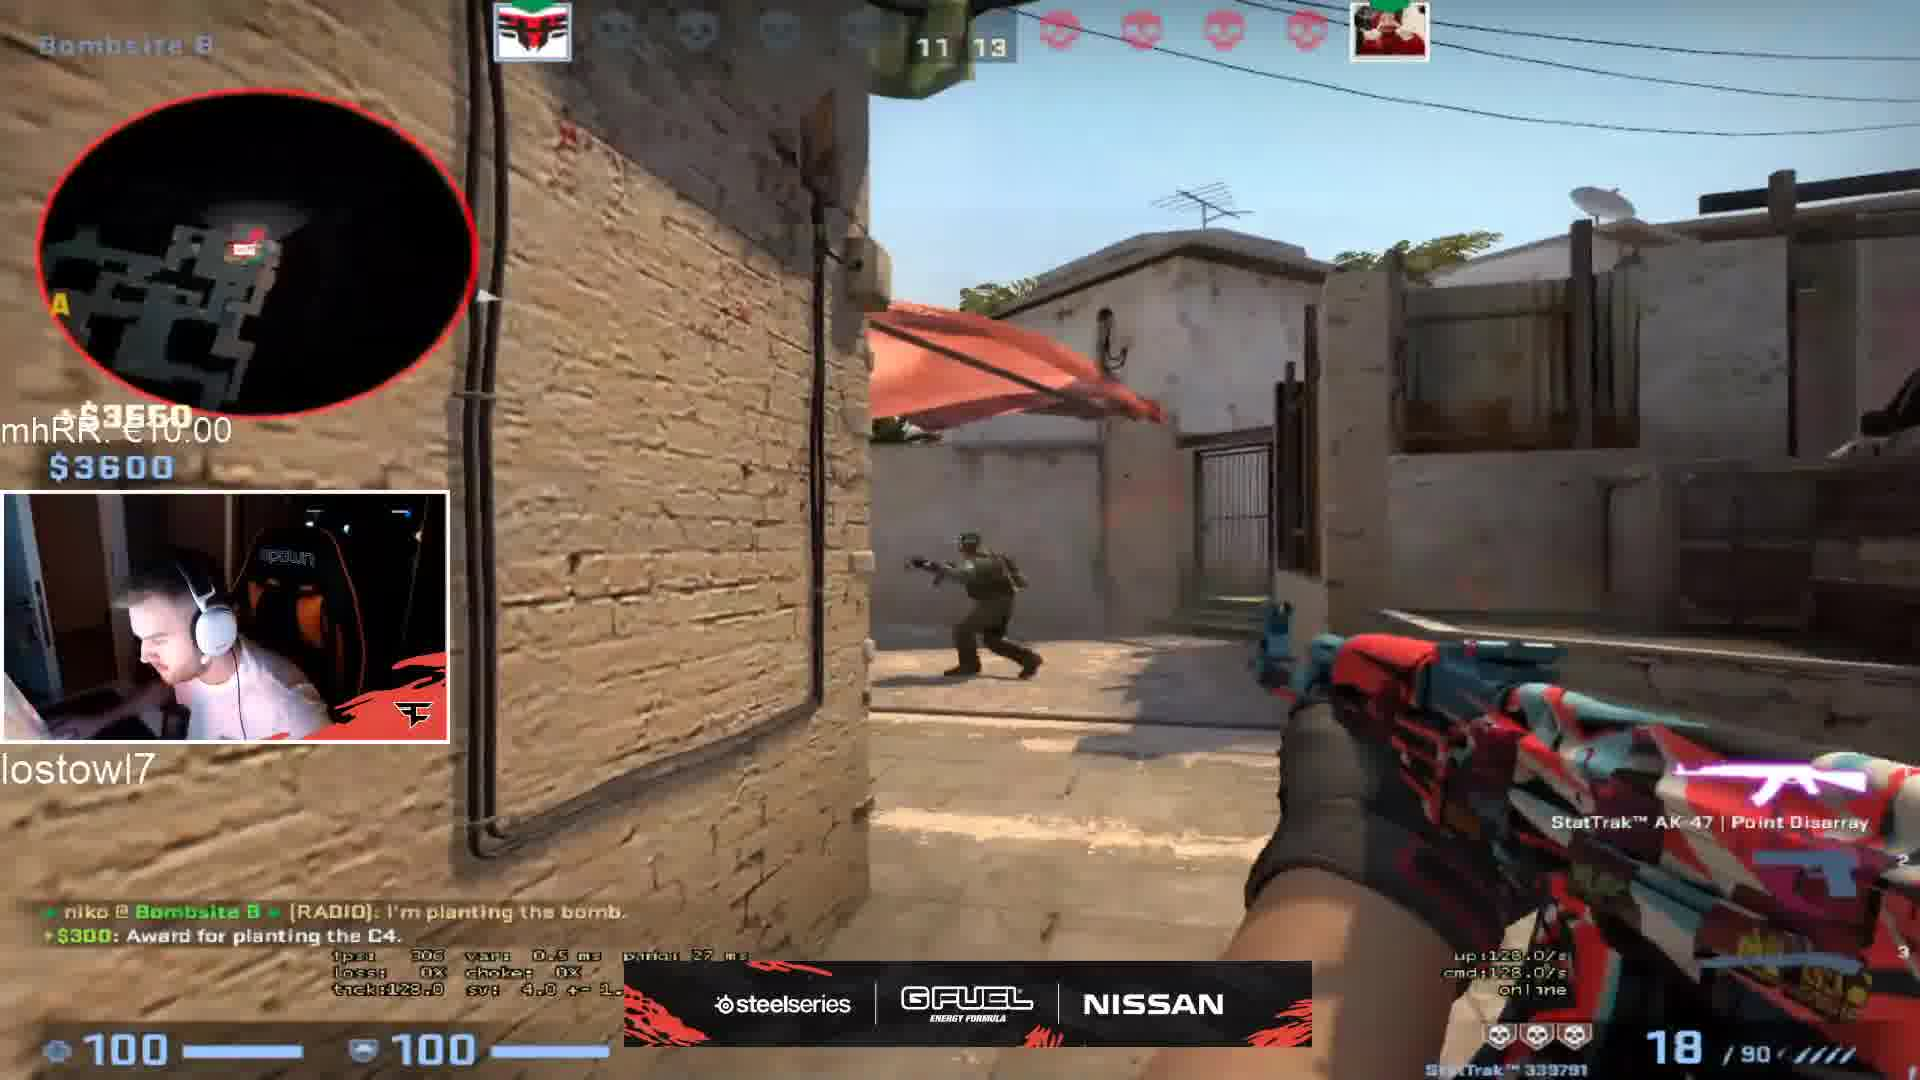enemy: (905, 520, 1054, 680)
